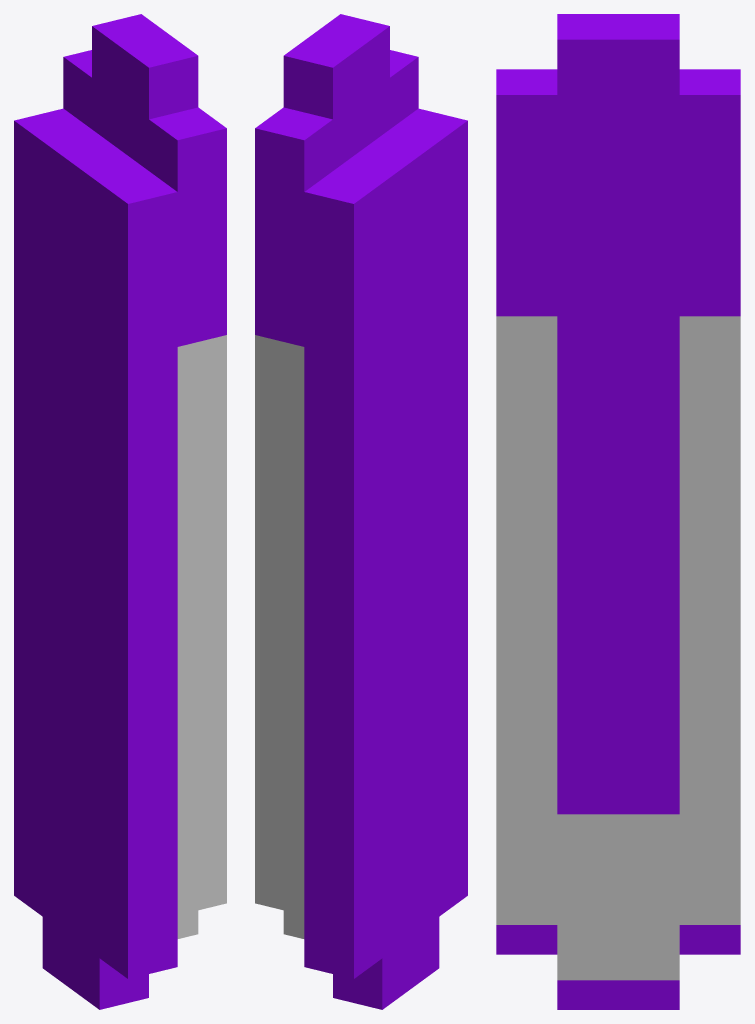
Rendered from penguin07_rightArm.obj.
The picture shows the model from 3 angles, left to right: view 1: azimuth 30°, elevation 25°; view 2: azimuth 150°, elevation 25°; view 3: azimuth 270°, elevation 25°; orthographic projection. The views are drawn at different scales.
Bounding box in the file's own units: 0.2 × 1.8 × 0.4.
1 material, 1 textured.
